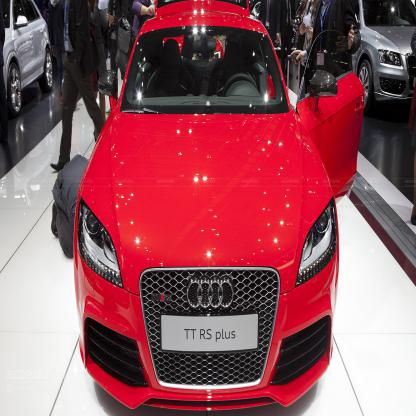Vehicle: (74, 4, 366, 409)
